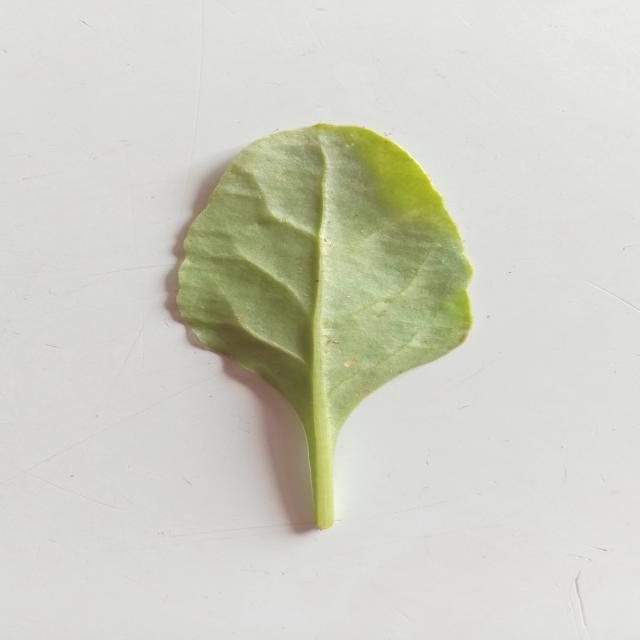leaf: (174, 121, 473, 529)
